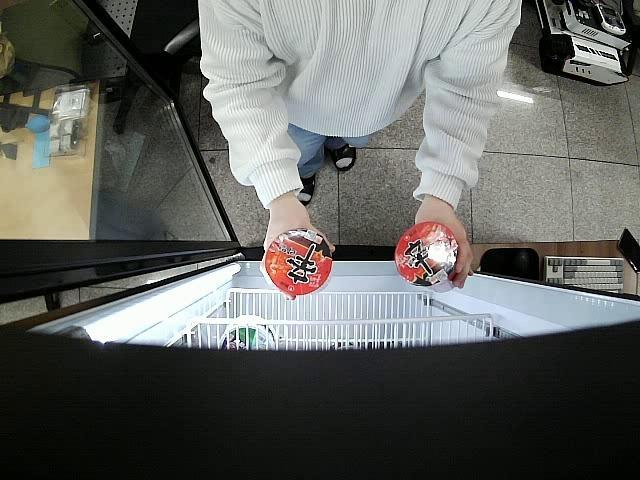02_shinRamen_S: (394, 220, 460, 295), (263, 228, 332, 295)
